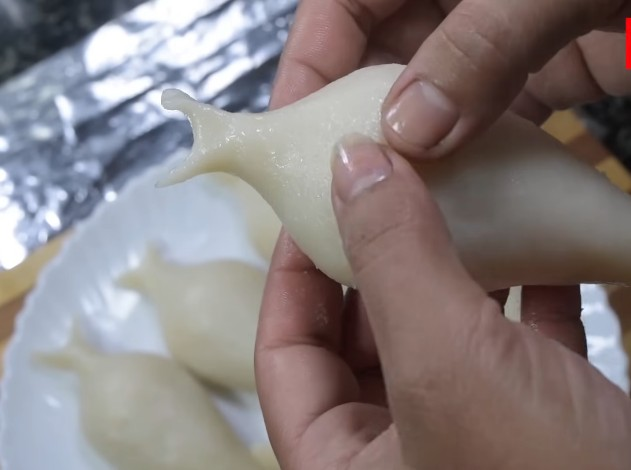yomari: (147, 78, 631, 258), (99, 226, 269, 317), (36, 307, 196, 387)
